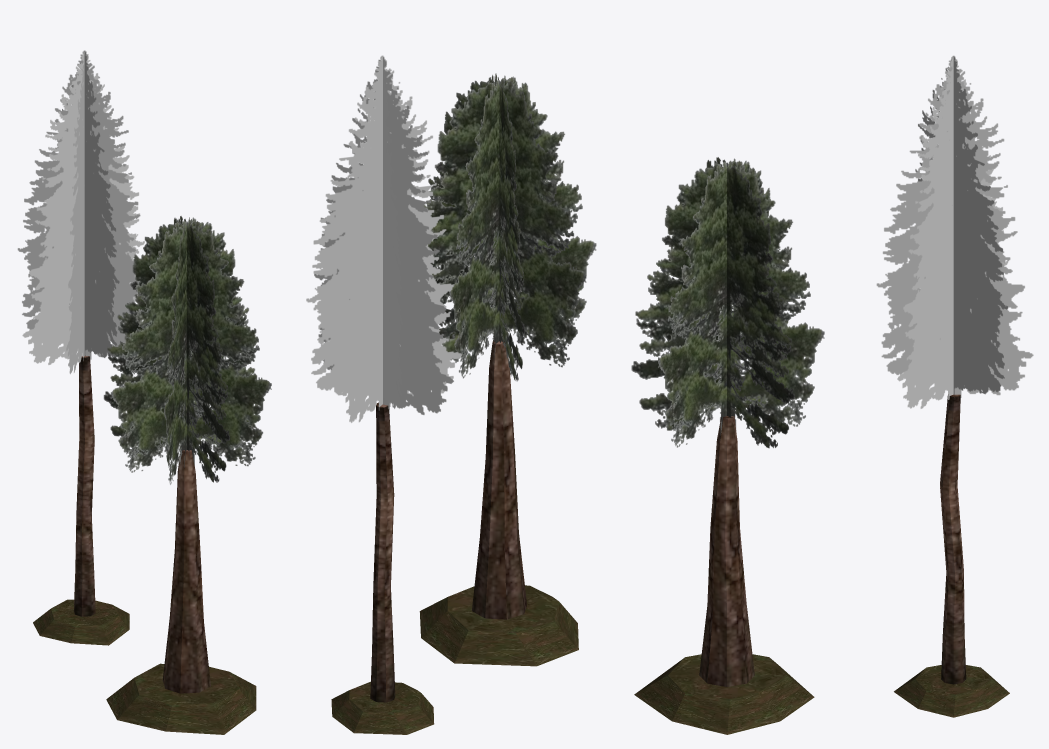
Rendered from psx_style_trees.glb.
3 renders of one model, left to right at view 1: azimuth 30°, elevation 25°; view 2: azimuth 150°, elevation 25°; view 3: azimuth 270°, elevation 25°, orthographic. The views are drawn at different scales.
Visible parts, largest first — view 1: Tree.1, Tree, Bark, Ground; view 2: Tree.1, Tree, Bark, Ground; view 3: Tree.1, Tree, Bark, Ground.
Boxes of the visible parts, left/top/right/bottom form: Tree.1: left=103, top=216, right=271, bottom=484; Tree: left=17, top=50, right=144, bottom=374; Bark: left=73, top=355, right=210, bottom=693; Ground: left=33, top=599, right=256, bottom=734; Tree.1: left=423, top=73, right=596, bottom=381; Tree: left=306, top=55, right=461, bottom=422; Bark: left=370, top=340, right=526, bottom=702; Ground: left=331, top=585, right=578, bottom=734; Tree.1: left=631, top=157, right=824, bottom=448; Tree: left=876, top=55, right=1033, bottom=408; Bark: left=699, top=394, right=966, bottom=686; Ground: left=634, top=654, right=1009, bottom=734.
Bounding box in the file's own units: 2.46 × 8.84 × 5.03.
4 materials, 4 textured.
